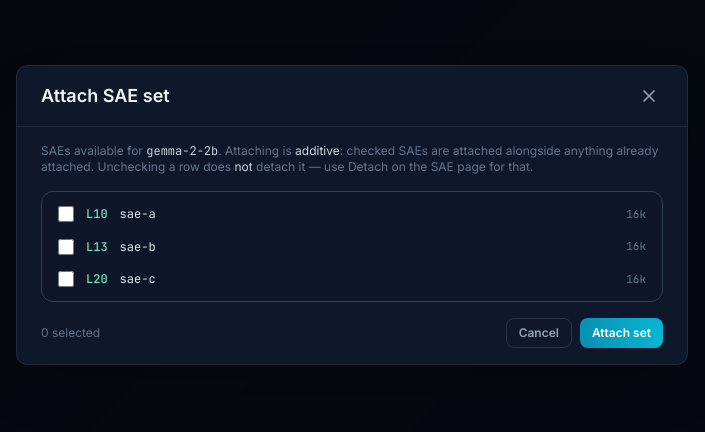
AttachSetDialog › shows the server's rejection reason verbatim and says nothing was attached
Click the button with test id "attach-set-submit". click: (621, 333)
box: [580, 318, 663, 348]
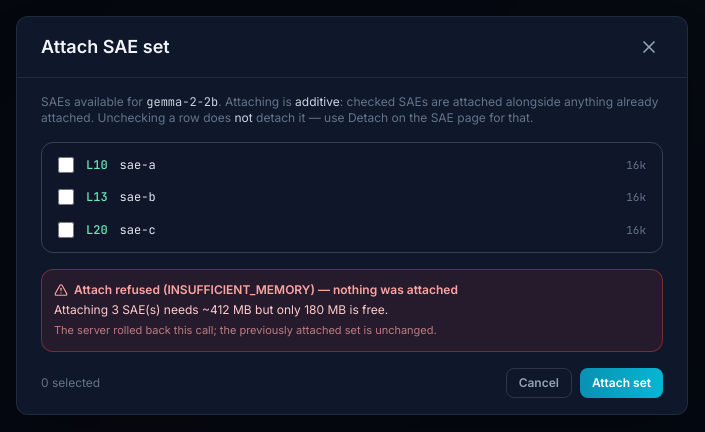
Result: the element with test id "attach-rejection" shows "Attaching 3 SAE(s) needs ~412 MB but only 180 MB is free." at [54, 302, 388, 317]
Result: the element with test id "attach-rejection" shows "INSUFFICIENT_MEMORY" at [167, 282, 310, 297]
